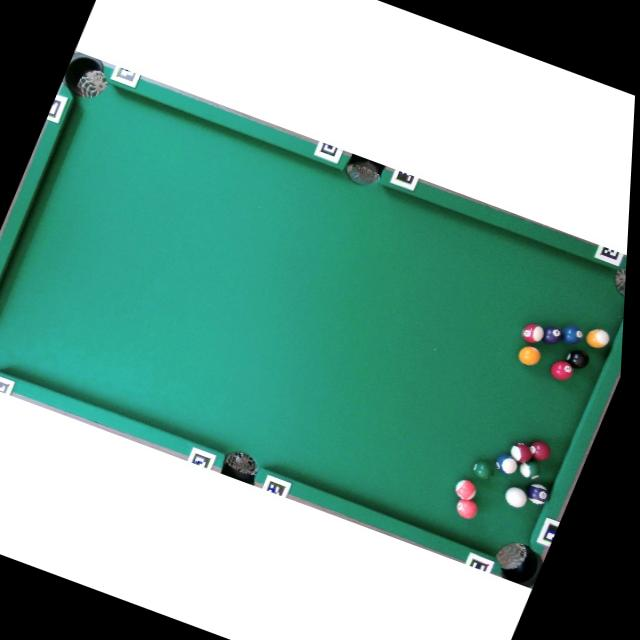cue ball: (500, 484, 531, 511)
other: (515, 342, 544, 370), (523, 481, 553, 508), (491, 452, 522, 478), (583, 325, 612, 352), (556, 322, 586, 348), (506, 440, 536, 466), (562, 346, 592, 372), (547, 358, 576, 384), (468, 457, 497, 483), (452, 496, 481, 522), (525, 438, 555, 463), (518, 321, 547, 346), (451, 478, 480, 503), (516, 458, 544, 483), (538, 323, 565, 348)
